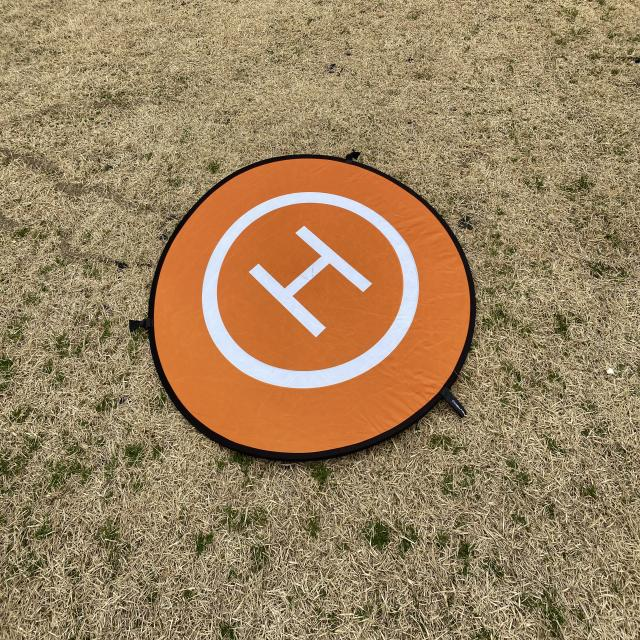helipad: (200, 190, 420, 390)
